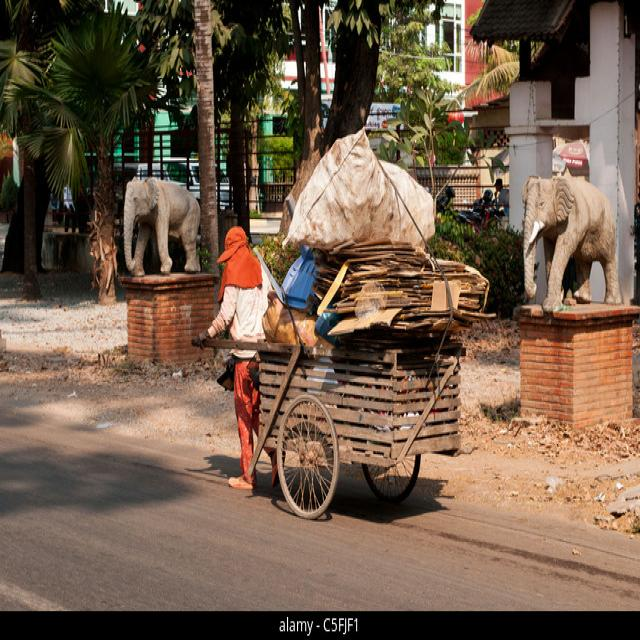cardboard: (332, 251, 483, 350)
plastic: (272, 256, 318, 318)
trash: (292, 150, 429, 245), (263, 301, 311, 346)
